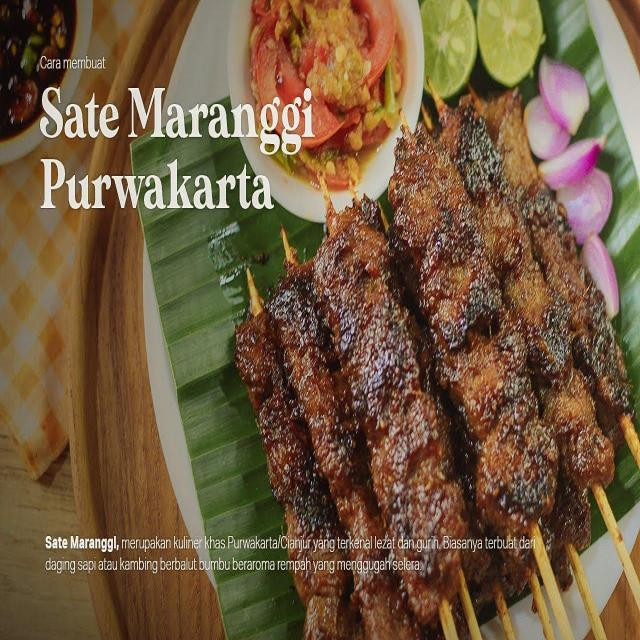Sate: (202, 55, 640, 639)
